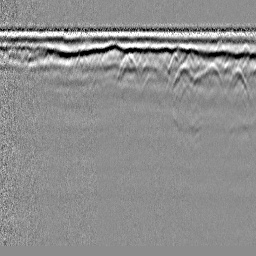cavity: (116, 51, 139, 83)
